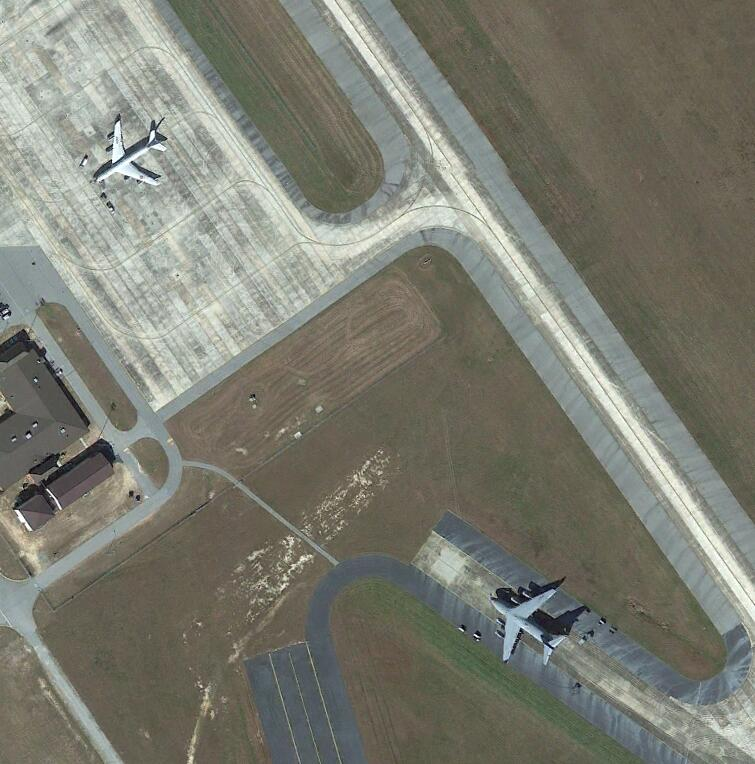A11: (91, 119, 169, 188)
A3: (488, 584, 569, 665)
